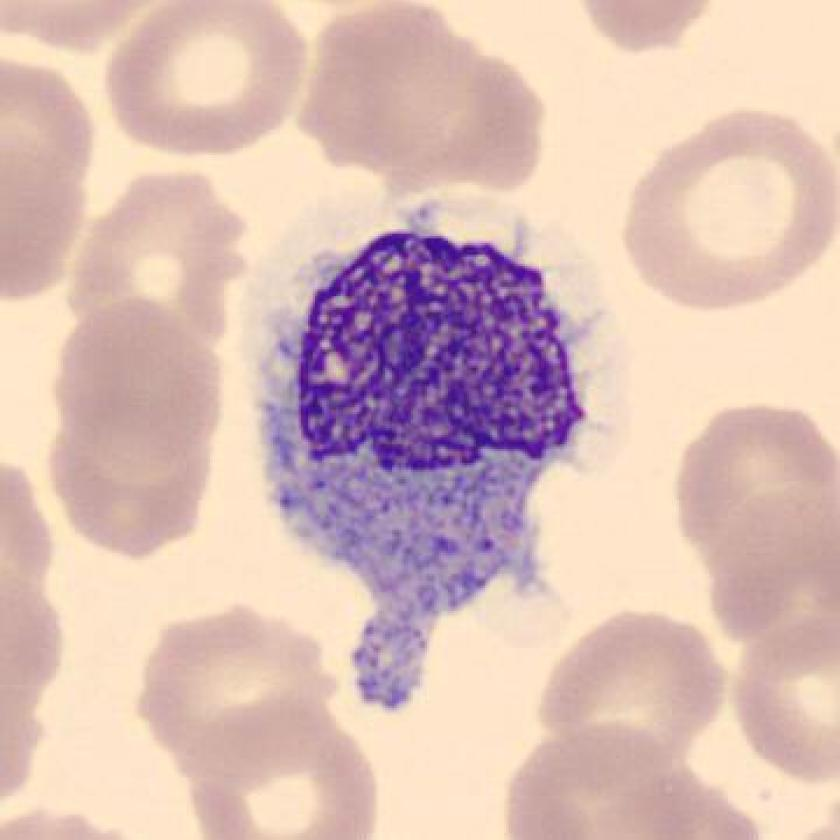monocyte: (220, 189, 629, 726)
